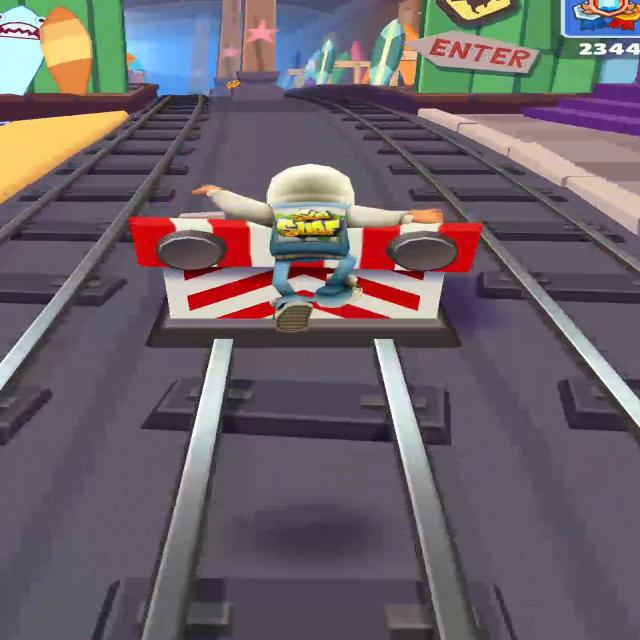block pillar: (232, 0, 283, 101), (213, 0, 242, 95)
roll blocker: (312, 223, 481, 329), (130, 217, 276, 327), (290, 259, 336, 294)
